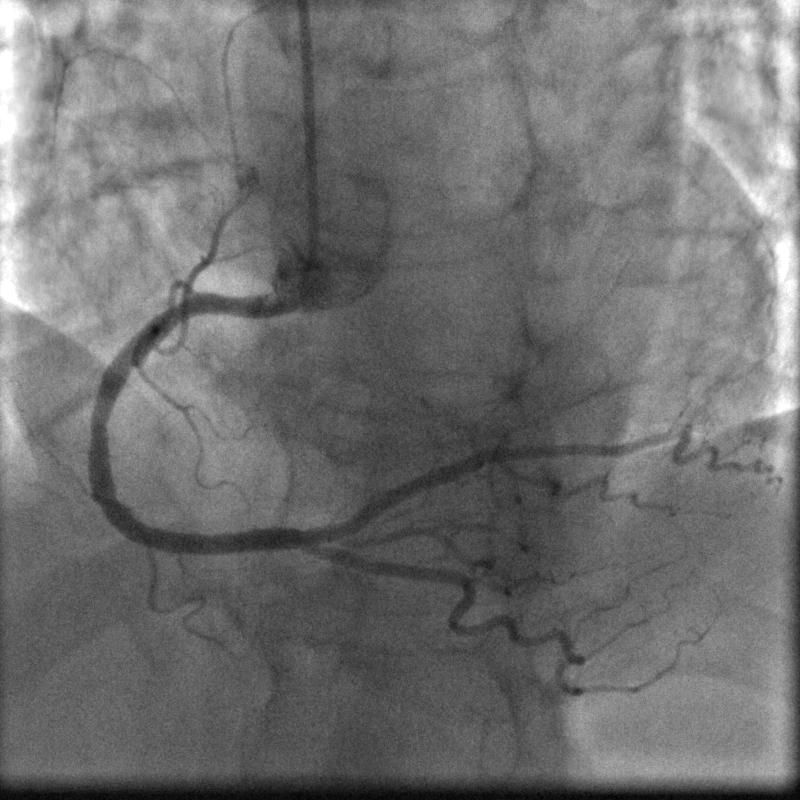Stenosis: (86, 394, 116, 448)
